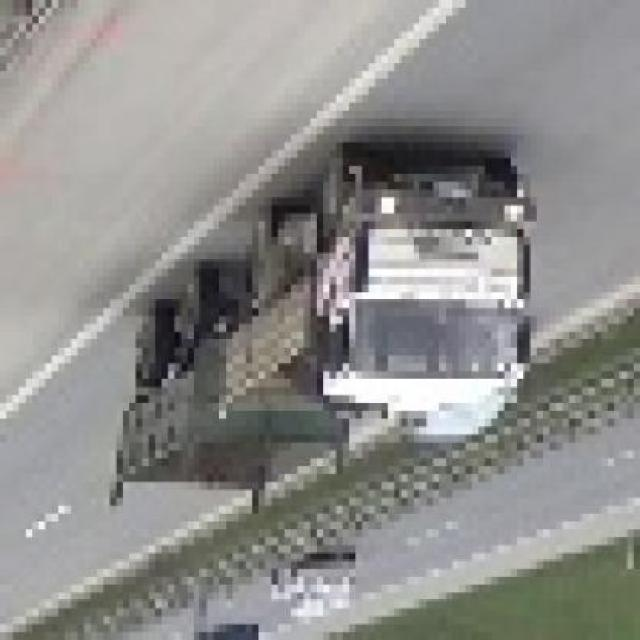truck: (117, 151, 545, 539)
